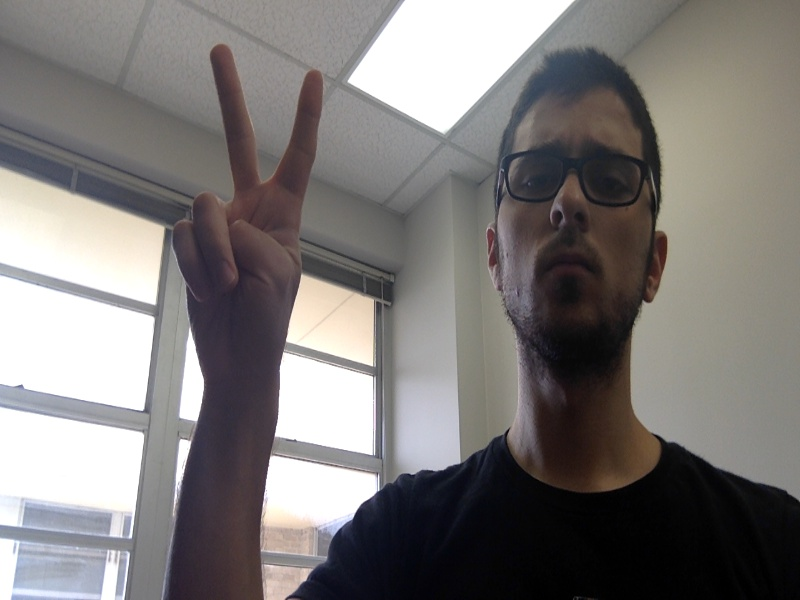2-hand: (177, 43, 323, 369)
